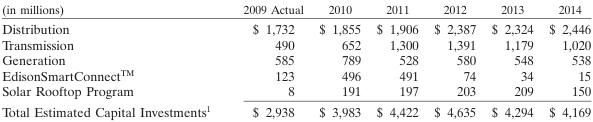table: (1, 1, 590, 119)
table column: (1, 1, 226, 119), (226, 1, 310, 119), (310, 1, 368, 119), (425, 1, 483, 119), (368, 1, 425, 119), (483, 1, 540, 119), (540, 1, 590, 119)
table column header: (1, 1, 590, 18)
table row: (1, 100, 590, 119), (1, 18, 590, 36), (1, 82, 590, 100), (1, 1, 590, 18), (1, 51, 590, 67), (1, 36, 590, 51), (1, 67, 590, 82)
